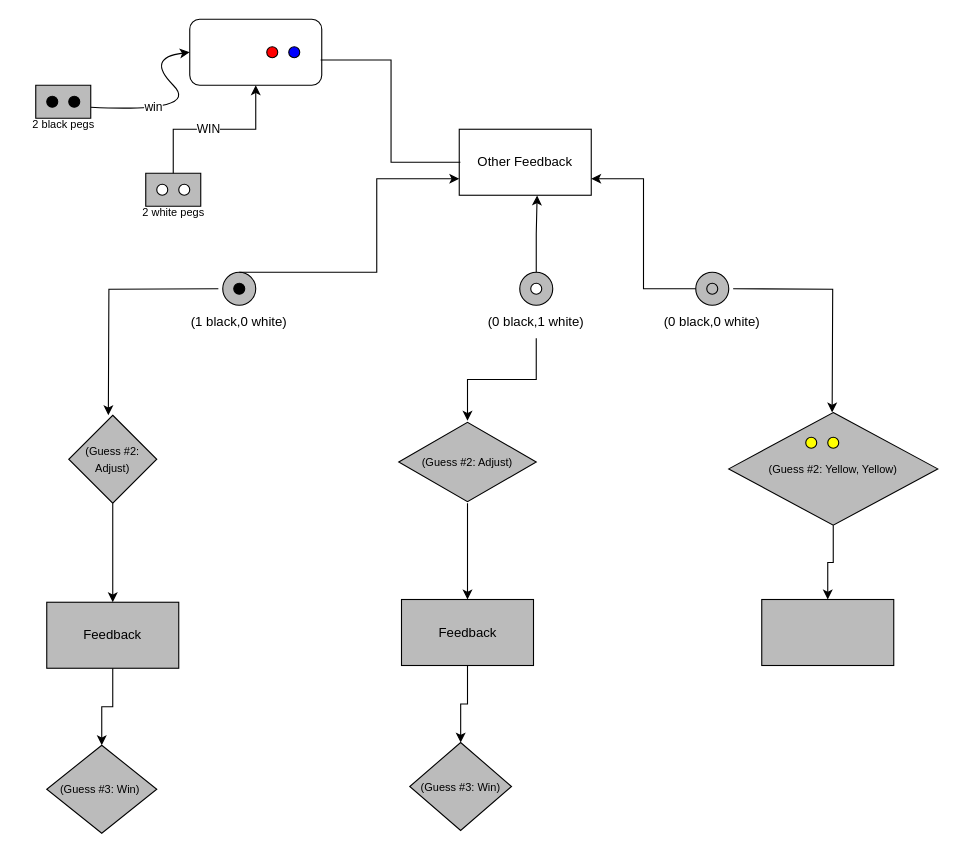
This 957x853 diagram has some shape labels left out. Here are the shapes that lost their labels. From the top down, the centre of each, then its label:
At point 255,51: "(Guess #1: )".
At point 827,632: "(Win on move 2)".
